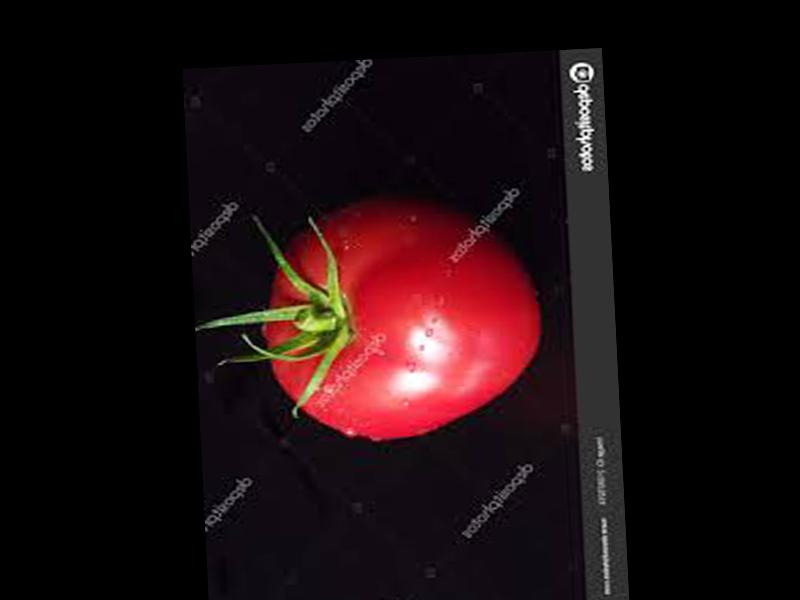Tomato: (258, 191, 545, 445)
